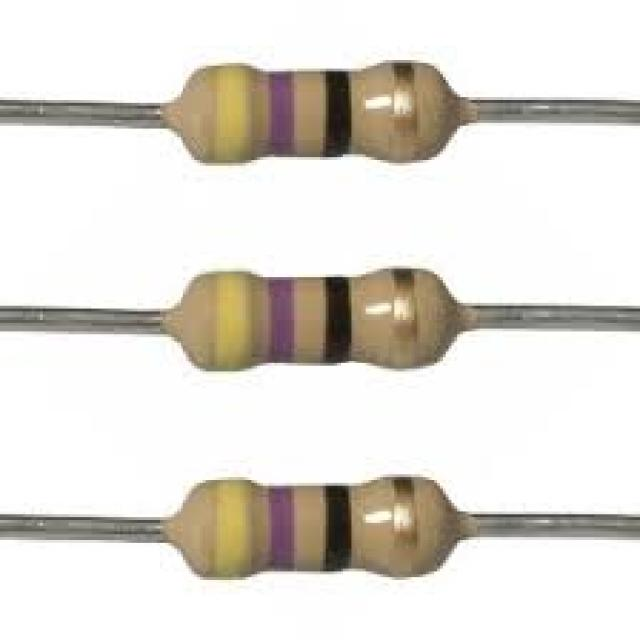Resistor: (158, 61, 484, 165), (157, 267, 484, 368), (160, 477, 462, 579)
